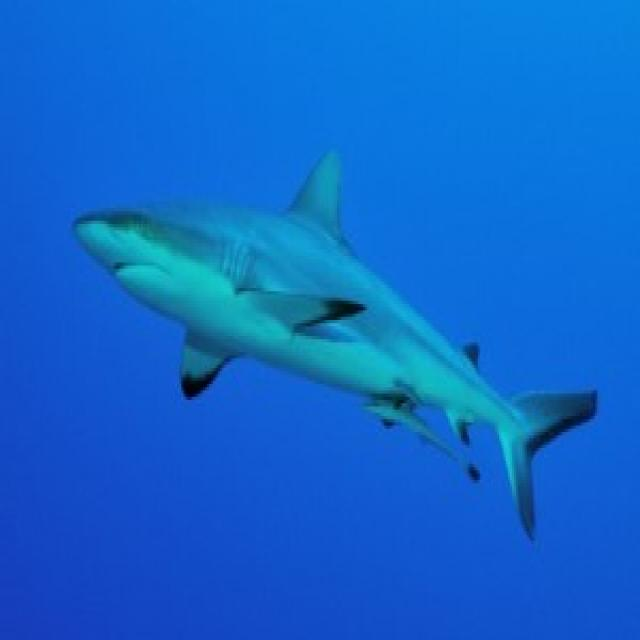Shark: (72, 142, 612, 538)
